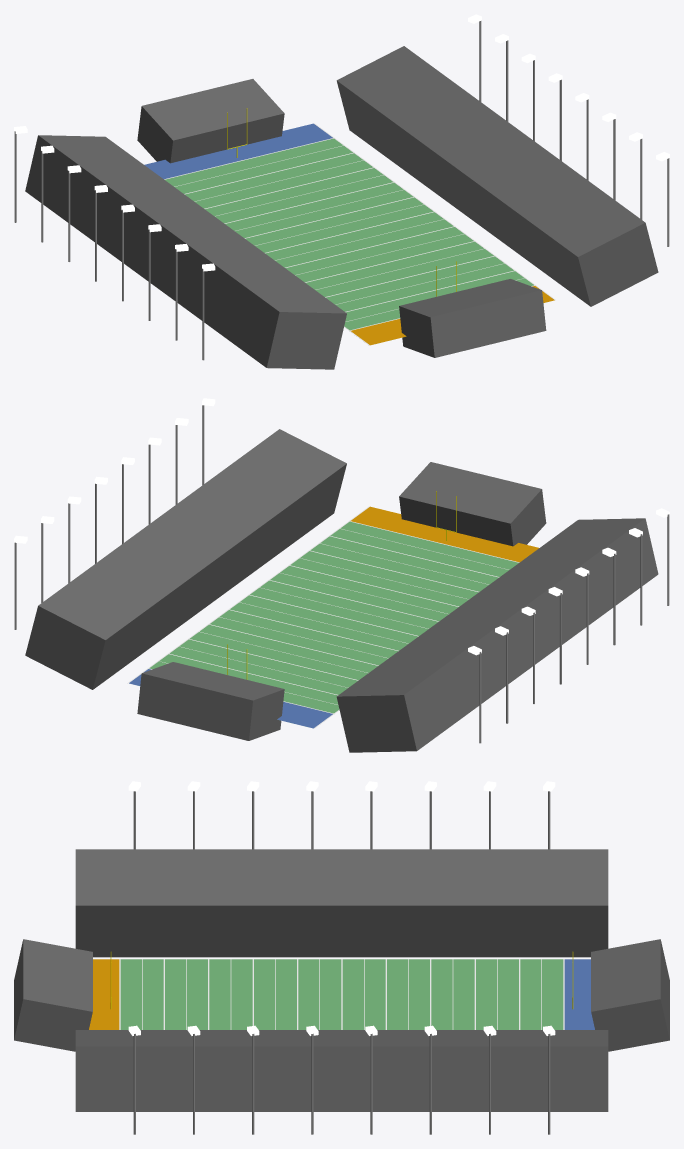
File: blitz-stadium.glb
The picture shows the model from 3 angles, top to bottom: view 1: azimuth 30°, elevation 25°; view 2: azimuth 150°, elevation 25°; view 3: azimuth 270°, elevation 25°; orthographic projection. The views are drawn at different scales.
Visible parts, largest first — view 1: BLITZ_Stands_Right, BLITZ_Field, BLITZ_Stands_Left, BLITZ_EndStands_Away, BLITZ_EndStands_Home, BLITZ_AwayEndzone, BLITZ_HomeEndzone; view 2: BLITZ_Stands_Right, BLITZ_Field, BLITZ_Stands_Left, BLITZ_EndStands_Home, BLITZ_EndStands_Away, BLITZ_HomeEndzone, BLITZ_AwayEndzone; view 3: BLITZ_Stands_Left, BLITZ_Stands_Right, BLITZ_Field, BLITZ_EndStands_Away, BLITZ_EndStands_Home, BLITZ_AwayEndzone, BLITZ_HomeEndzone.
Part boxes in pixels (x1=…): BLITZ_Stands_Right: x1=336, y1=46, x2=658, y2=306; BLITZ_Field: x1=165, y1=138, x2=533, y2=330; BLITZ_Stands_Left: x1=25, y1=135, x2=346, y2=369; BLITZ_EndStands_Away: x1=137, y1=79, x2=284, y2=163; BLITZ_EndStands_Home: x1=399, y1=279, x2=546, y2=357; BLITZ_AwayEndzone: x1=144, y1=123, x2=332, y2=179; BLITZ_HomeEndzone: x1=351, y1=286, x2=554, y2=345; BLITZ_Stands_Right: x1=25, y1=429, x2=346, y2=689; BLITZ_Field: x1=149, y1=521, x2=518, y2=713; BLITZ_Stands_Left: x1=336, y1=518, x2=658, y2=752; BLITZ_EndStands_Home: x1=399, y1=462, x2=546, y2=546; BLITZ_EndStands_Away: x1=137, y1=662, x2=284, y2=740; BLITZ_HomeEndzone: x1=351, y1=506, x2=538, y2=562; BLITZ_AwayEndzone: x1=129, y1=669, x2=332, y2=728; BLITZ_Stands_Left: x1=75, y1=849, x2=608, y2=957; BLITZ_Stands_Right: x1=75, y1=1030, x2=608, y2=1111; BLITZ_Field: x1=120, y1=959, x2=563, y2=1029; BLITZ_EndStands_Away: x1=591, y1=939, x2=669, y2=1051; BLITZ_EndStands_Home: x1=14, y1=939, x2=92, y2=1051; BLITZ_AwayEndzone: x1=564, y1=959, x2=594, y2=1029; BLITZ_HomeEndzone: x1=89, y1=959, x2=119, y2=1029.
Bounding box in the file's own units: 134 × 29.74 × 148.
